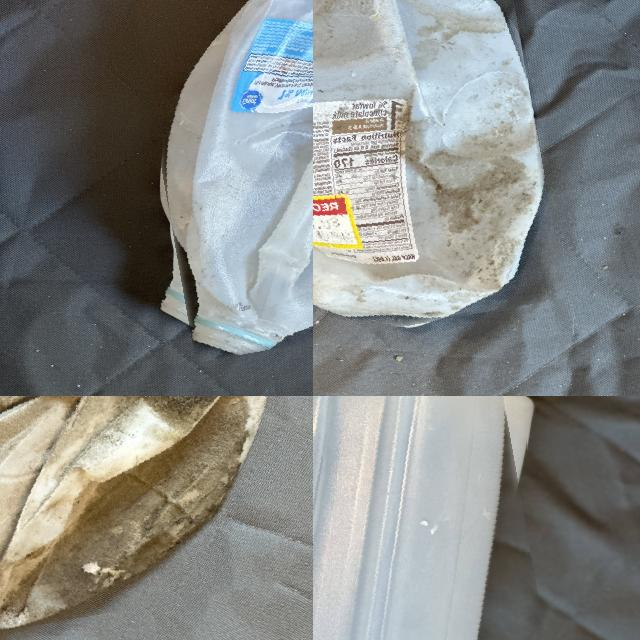milk-jug: (313, 0, 550, 341), (0, 396, 306, 636), (144, 0, 313, 347), (313, 396, 544, 640)
